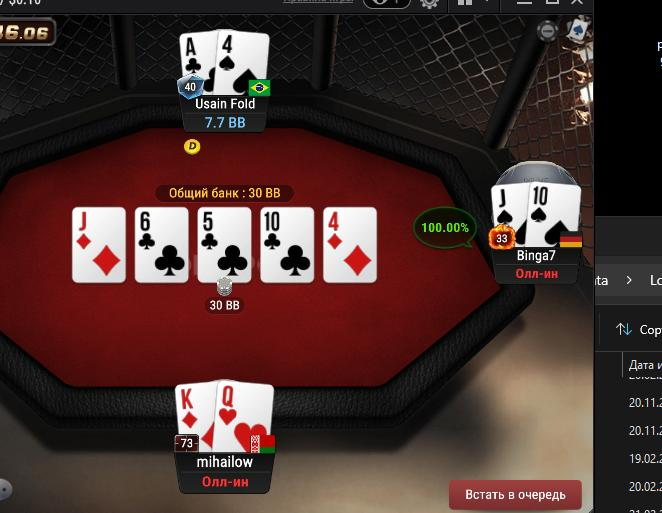10c: (260, 208, 314, 281)
10s: (529, 182, 579, 248)
4d: (324, 207, 376, 283)
4s: (217, 29, 269, 98)
5c: (197, 208, 251, 282)
6c: (135, 207, 189, 284)
Ac: (179, 31, 217, 96)
Jd: (72, 207, 124, 282)
Js: (492, 184, 528, 248)
Kd: (174, 382, 218, 453)
Qh: (216, 379, 274, 453)
